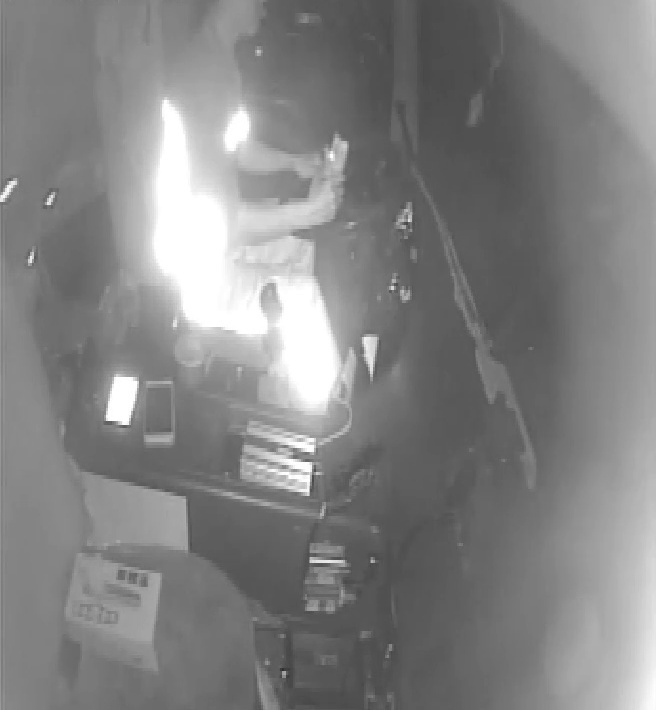cellphone: (102, 370, 138, 430)
